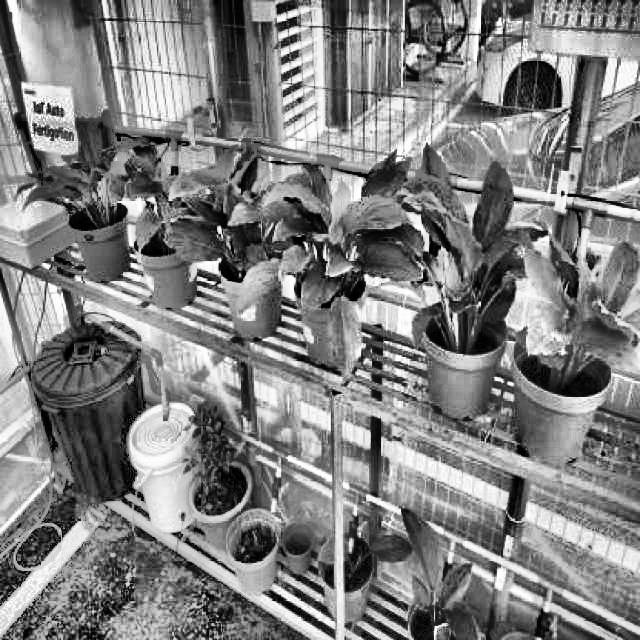plants: (237, 144, 425, 388), (402, 143, 548, 357), (512, 216, 640, 392), (164, 136, 286, 282), (14, 108, 154, 229), (107, 139, 195, 258)
